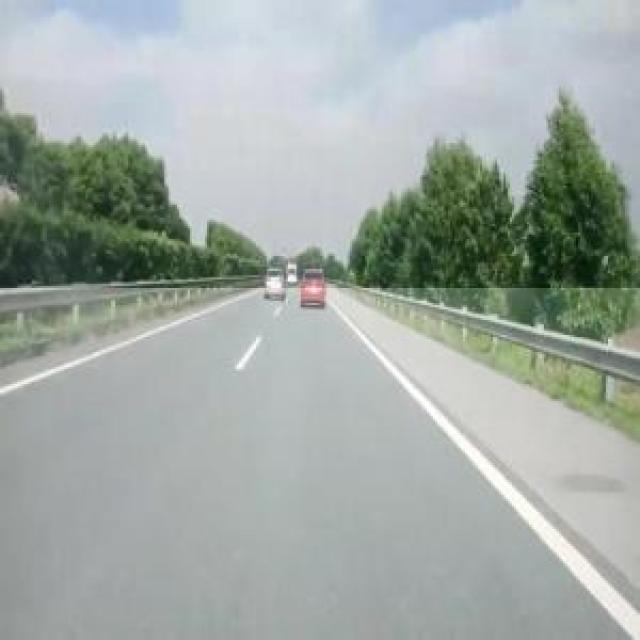clear-road: (0, 288, 640, 640)
